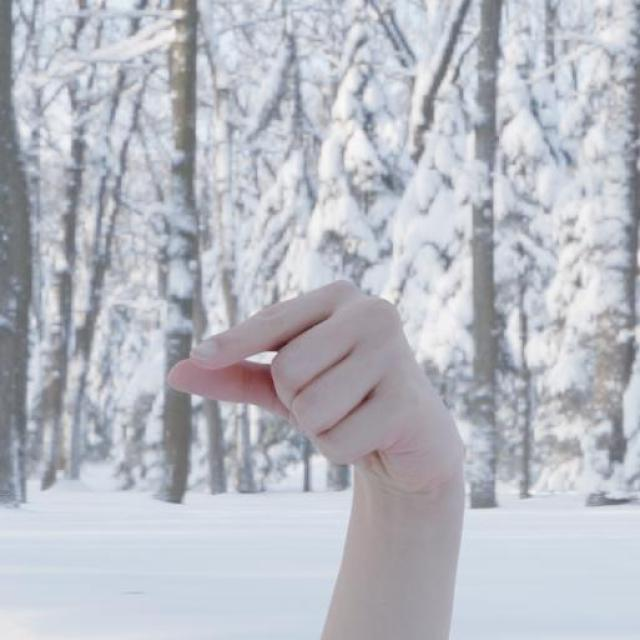G: (162, 272, 471, 483)
